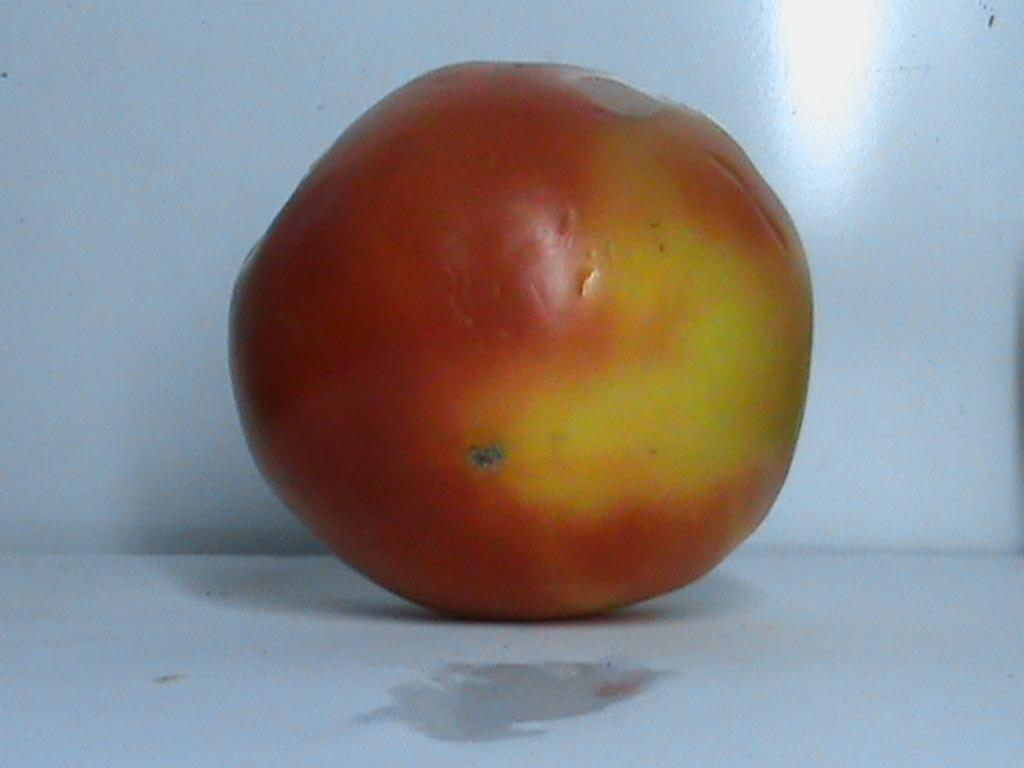bruise_discoloration: (472, 213, 810, 514)
rot_mold_decay: (469, 443, 506, 470)
tomato: (232, 64, 811, 616)
